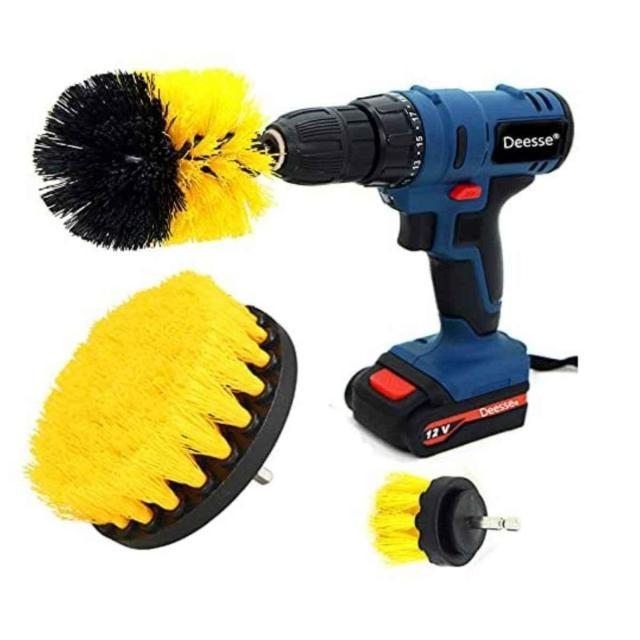drill: (260, 84, 574, 458)
